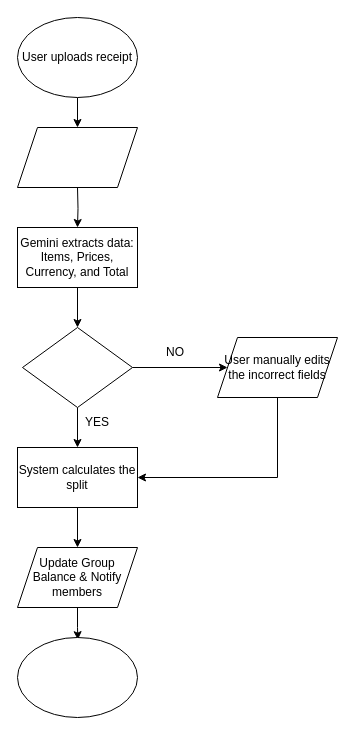
Some shapes in this 355 by 735 pixel diagram are drawn without their labels. The box of each missing label's shape, as (x1, y1, x2, y2) in pixels:
End: (16, 636, 138, 718)
Input: Sends image to Gemini Multimodal API: (16, 126, 138, 188)
Is data correct?: (22, 326, 132, 408)
